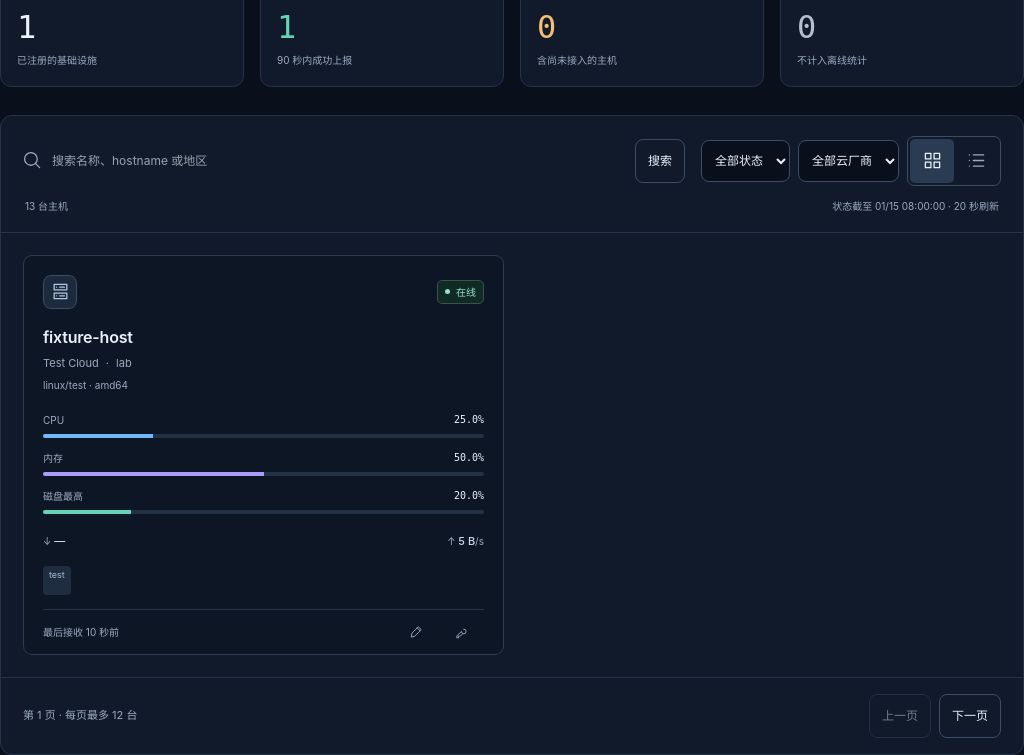
Test: search and filters reset stable cursor and list mode remains usable
The width and height of the screenshot is (1024, 755).
(page scrolled)
Check: the link "fixture-host" is shown, box [43, 327, 133, 347]
Click the button "下一页": (970, 716) [939, 694, 1001, 738]
(page scrolled)
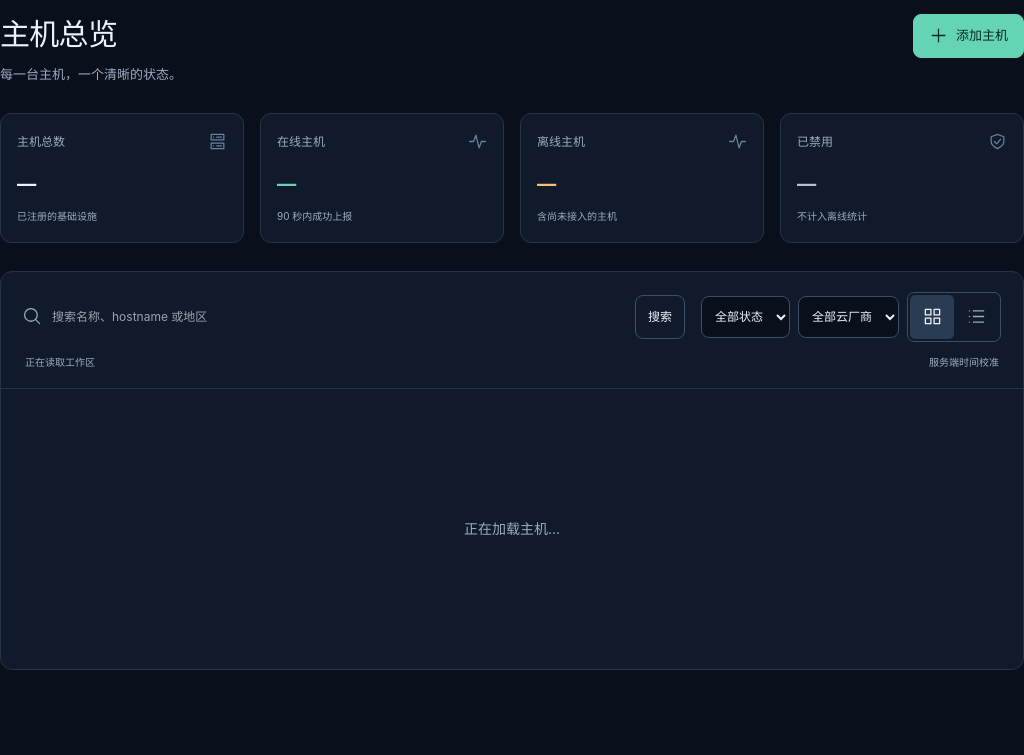
In the field named "搜索主机": (338, 317) [50, 295, 627, 339], type "oracle"
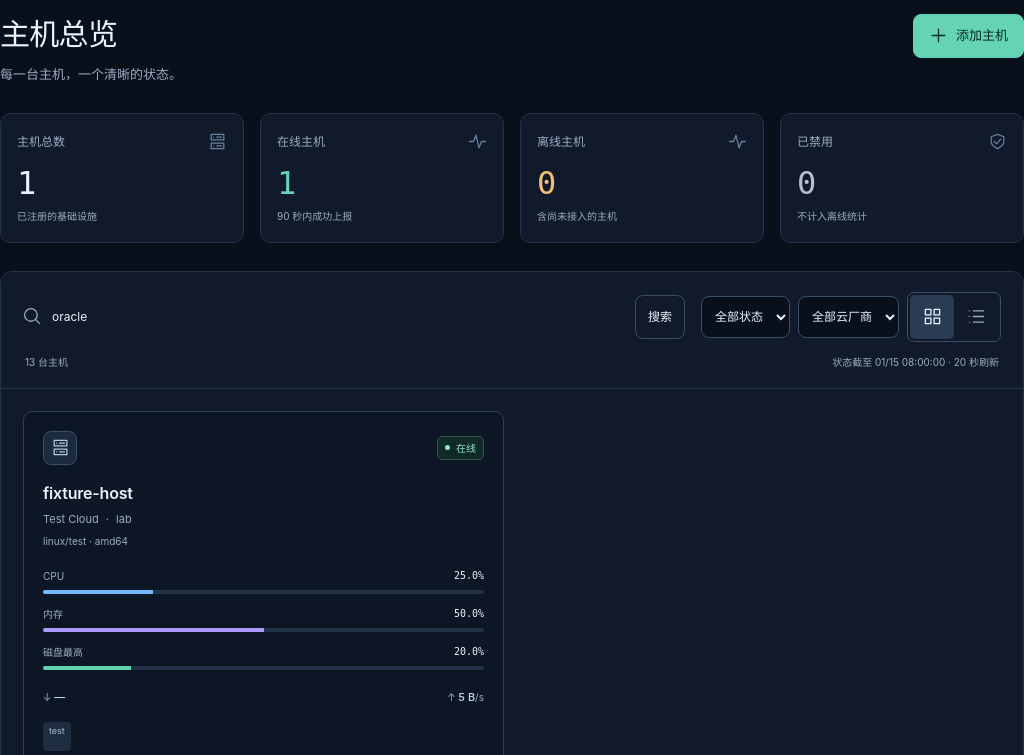
Submit the form named "搜索主机", box [23, 292, 685, 342]
Select "已禁用" in the 1st dropdown named "在线状态": (746, 317) [701, 296, 790, 338]
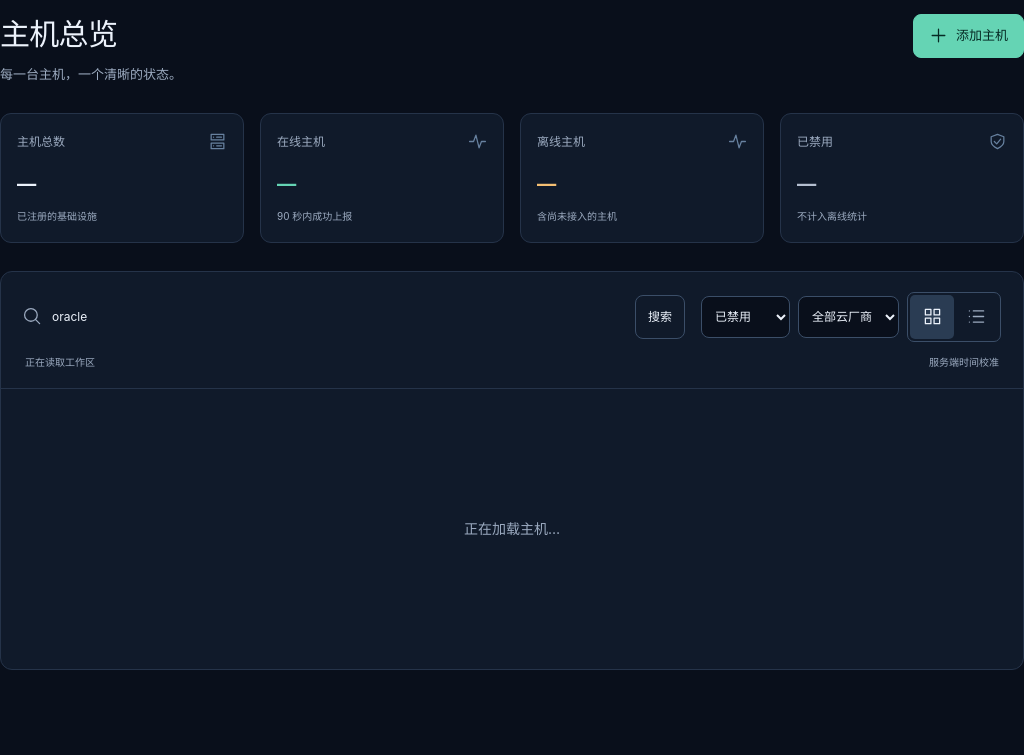
Click the button named "列表模式": (976, 317) [954, 295, 998, 339]
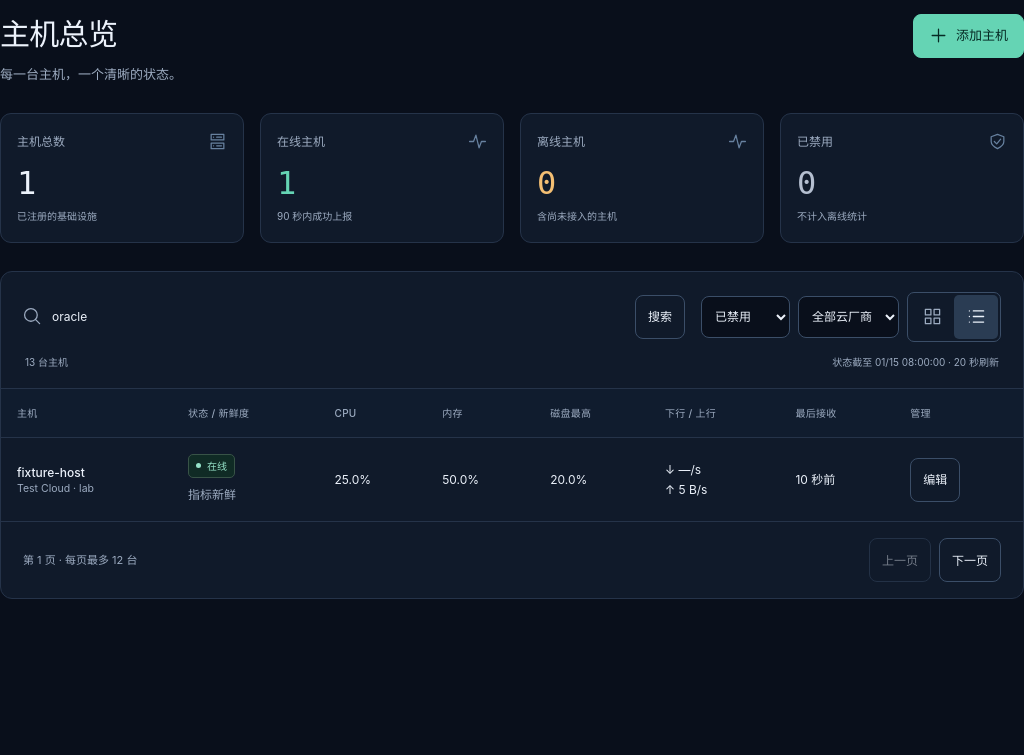
Check: the table is shown, box [1, 389, 1023, 521]
